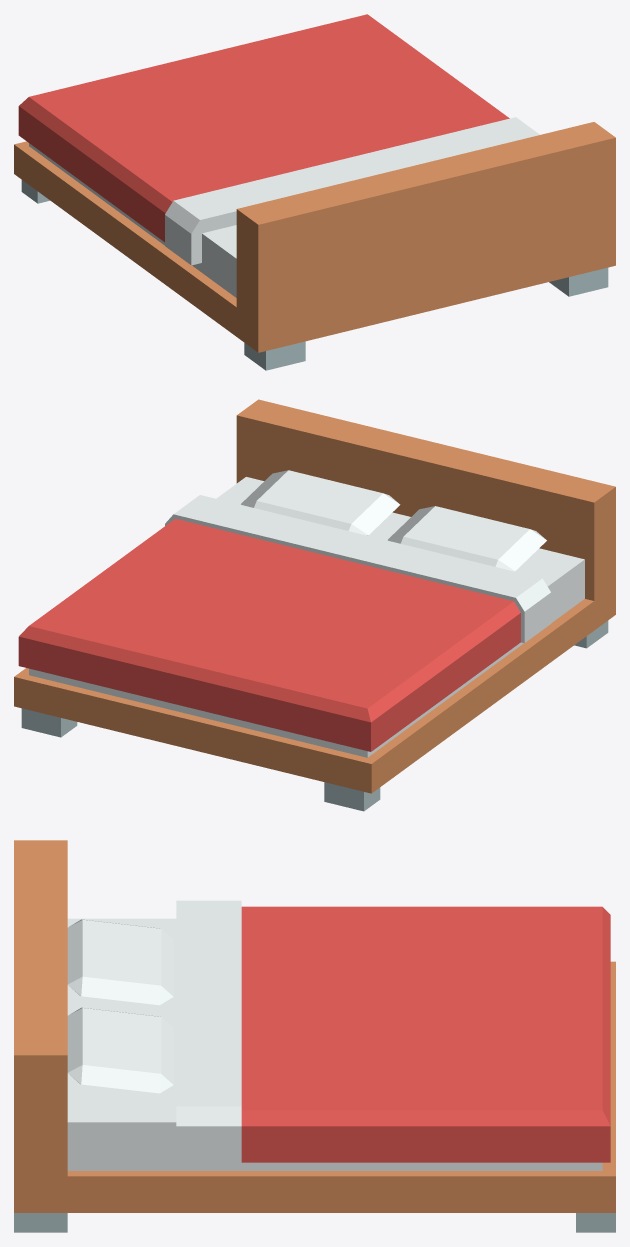
File: bedDouble.obj
The picture shows the model from 3 angles, top to bottom: view 1: azimuth 30°, elevation 25°; view 2: azimuth 150°, elevation 25°; view 3: azimuth 270°, elevation 25°; orthographic projection. The views are drawn at different scales.
Parts seen in each view (by area): view 1: bedDouble, cover; view 2: cover, bedDouble, pillowLeft, pillowRight; view 3: cover, bedDouble, pillowLeft, pillowRight.
Part boxes in pixels (x1,y1,x2,y2): bedDouble: (14,122,615,370); cover: (18,14,539,265); cover: (18,495,551,751); bedDouble: (14,399,615,811); pillowLeft: (241,470,400,535); pillowRight: (388,506,546,571); cover: (176,900,610,1164); bedDouble: (14,840,615,1232); pillowLeft: (67,1007,173,1093); pillowRight: (67,919,173,1005).
Bounding box in the file's own units: 0.956 × 0.375 × 1.12.
